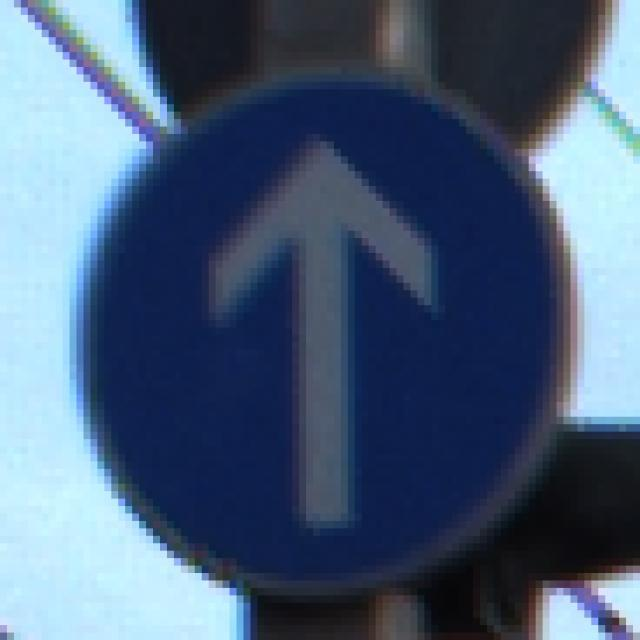compulsary ahead: (77, 73, 564, 596)
